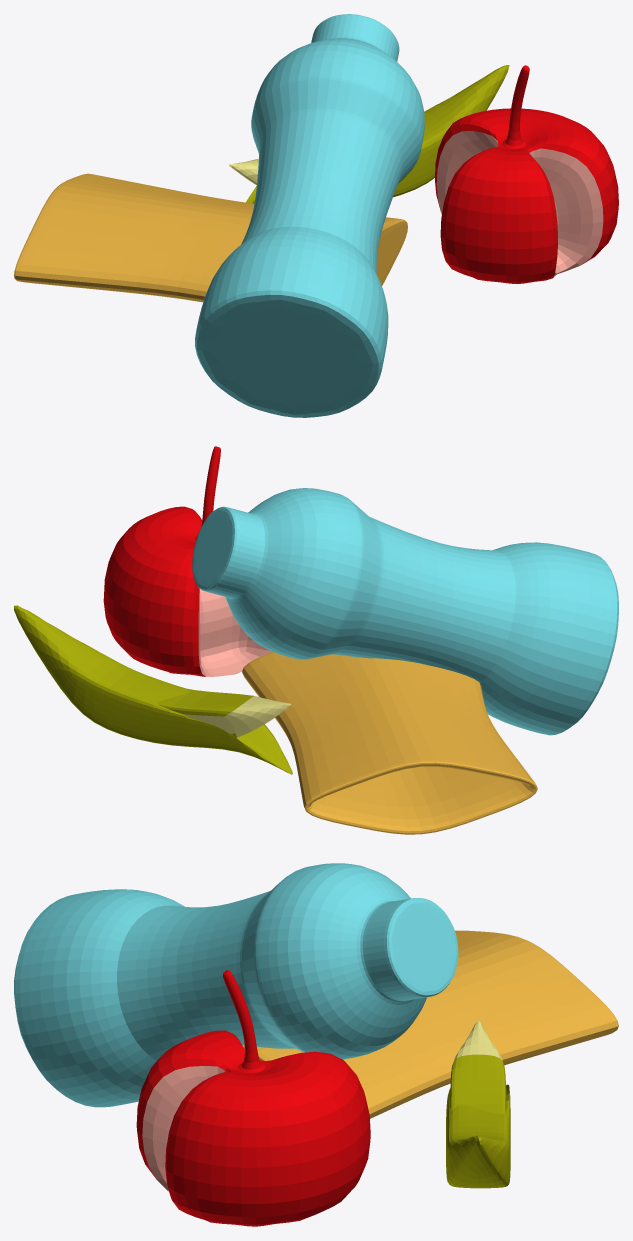
The model's file is LIXOS.fbx.
3 views of the same model, one above another, from view 1: azimuth 30°, elevation 25°; view 2: azimuth 150°, elevation 25°; view 3: azimuth 270°, elevation 25° (orthographic). The views are drawn at different scales.
Parts seen in each view (by area): view 1: Circle, Circle.001, Cube, Cube.001; view 2: Circle, Cube, Circle.001, Cube.001; view 3: Circle, Circle.001, Cube, Cube.001.
Boxes of the visible parts, x1=… form: Circle: x1=195, y1=14, x2=424, y2=417; Circle.001: x1=435, y1=65, x2=618, y2=283; Cube: x1=14, y1=173, x2=407, y2=302; Cube.001: x1=229, y1=65, x2=509, y2=203; Circle: x1=192, y1=488, x2=618, y2=735; Cube: x1=242, y1=652, x2=537, y2=834; Circle.001: x1=103, y1=446, x2=271, y2=676; Cube.001: x1=14, y1=605, x2=292, y2=774; Circle: x1=14, y1=863, x2=458, y2=1107; Circle.001: x1=136, y1=970, x2=370, y2=1226; Cube: x1=242, y1=930, x2=618, y2=1118; Cube.001: x1=446, y1=1020, x2=510, y2=1188.
Size of the model in its own units: 85.3 by 42.81 by 76.76.
